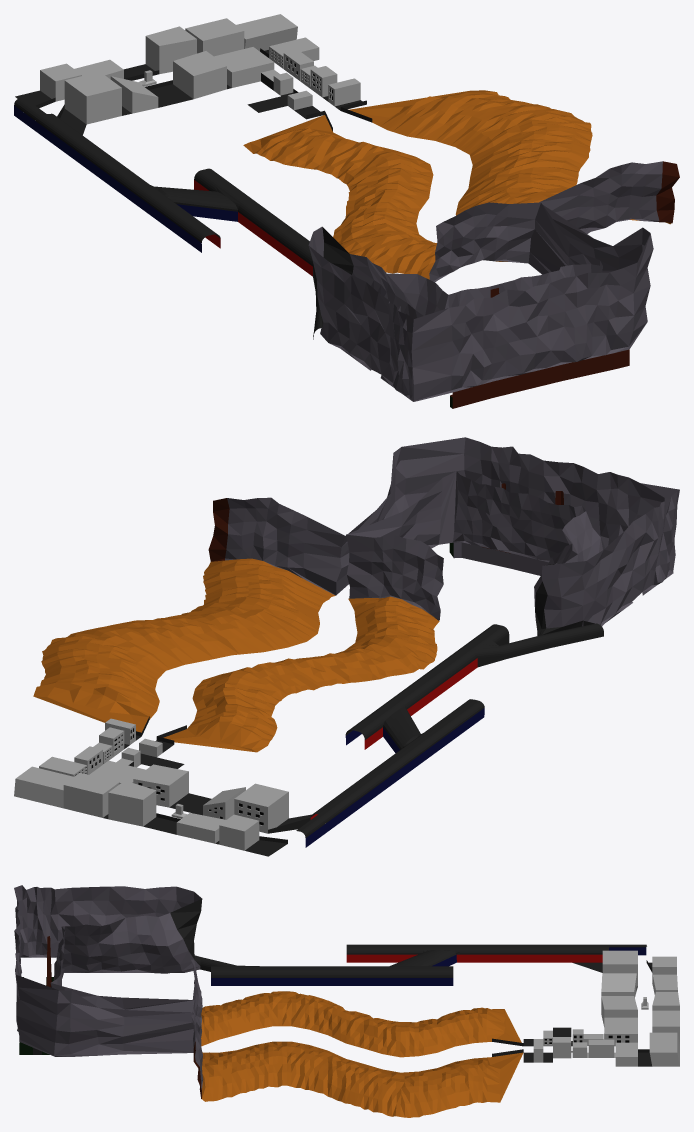
File: trackv2walls2.obj
3 renders of one model, top to bottom at view 1: azimuth 30°, elevation 25°; view 2: azimuth 150°, elevation 25°; view 3: azimuth 270°, elevation 25°, orthographic. The views are drawn at different scales.
Parts seen in each view (by area): view 1: Grid; view 2: Grid; view 3: Grid.
Boxes of the visible parts, x1,y1,x2,y2 form: Grid: [14, 14, 679, 408]; Grid: [14, 437, 679, 856]; Grid: [14, 885, 679, 1117].
Bounding box in the file's own units: 1091 × 257 × 1841.
